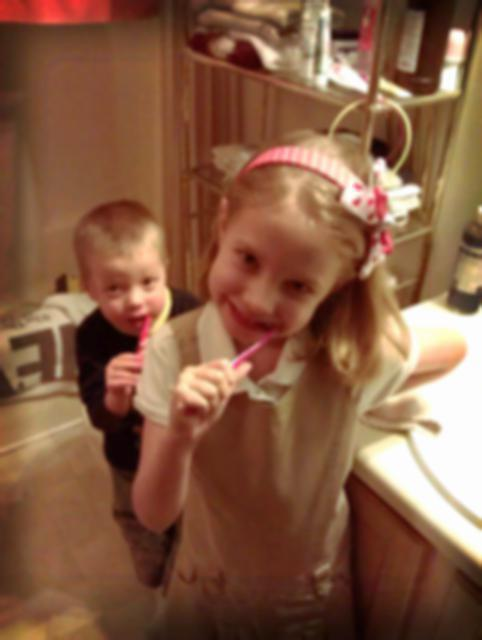Lavamanos: (372, 294, 481, 546)
